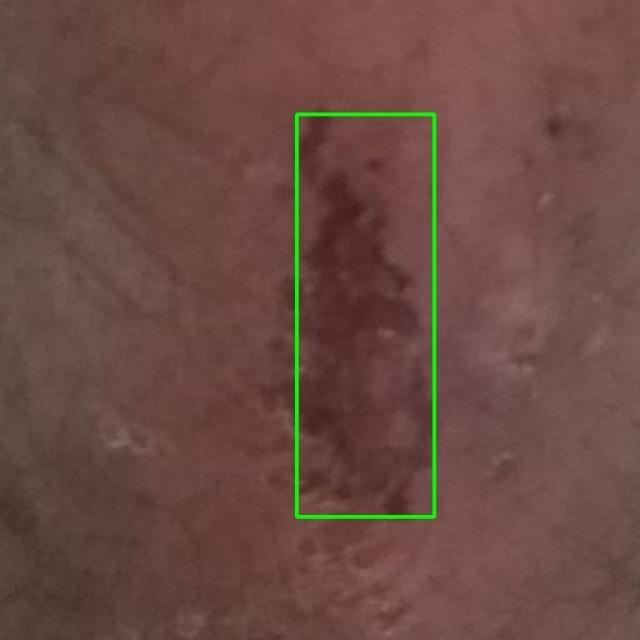Eczema: (296, 114, 434, 516)
